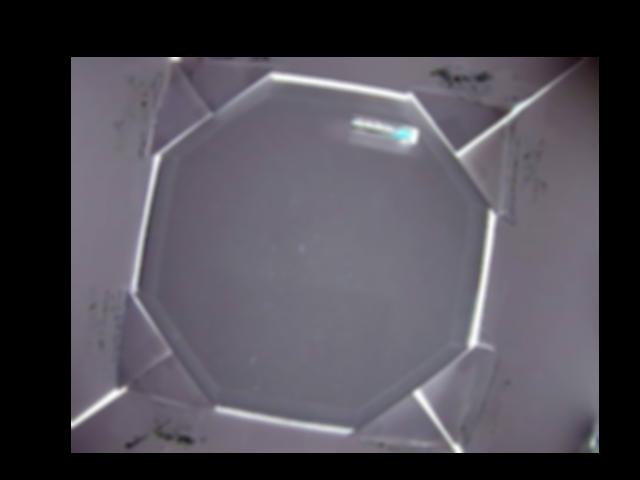Battery: (349, 113, 419, 145)
